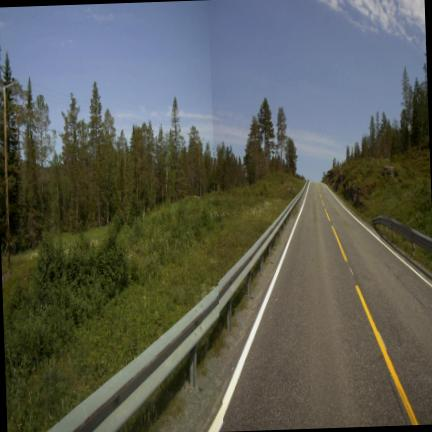Road: (215, 183, 431, 430)
